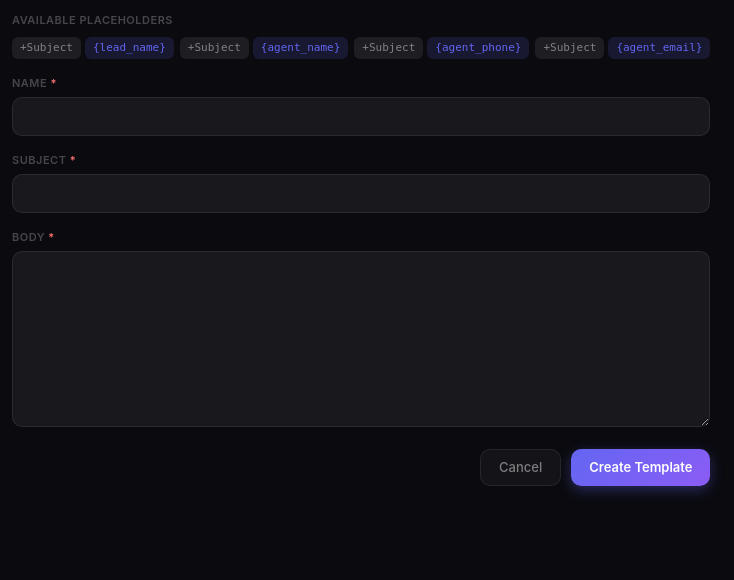
Test case: TemplateEditor › shows validation errors on empty submit
The image size is (734, 580).
What coordinates should you click on to do the following:
click the button with test id "submit-button"
I would click on:
 (641, 467)
Its box is [571,448,710,486].
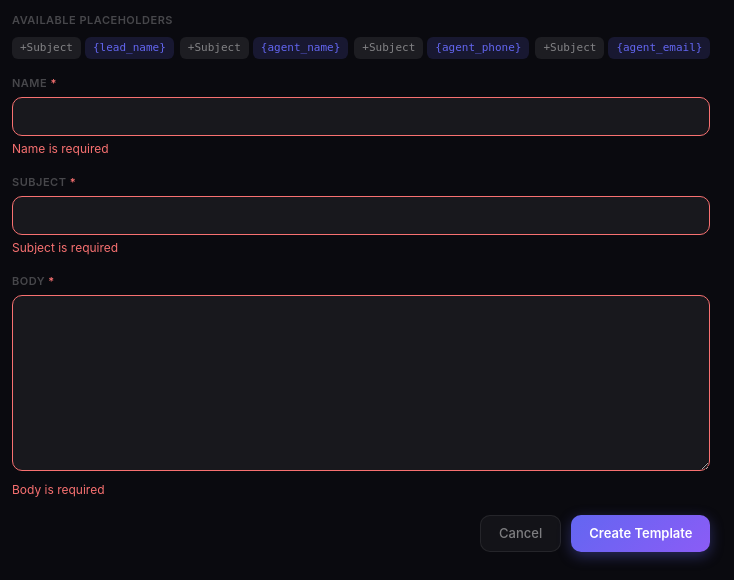
Check: the message "Name is required" is shown, box [12,141,109,156]
Check: the message "Subject is required" is shown, box [12,240,118,255]
Check: the message "Body is required" is shown, box [12,482,104,496]
